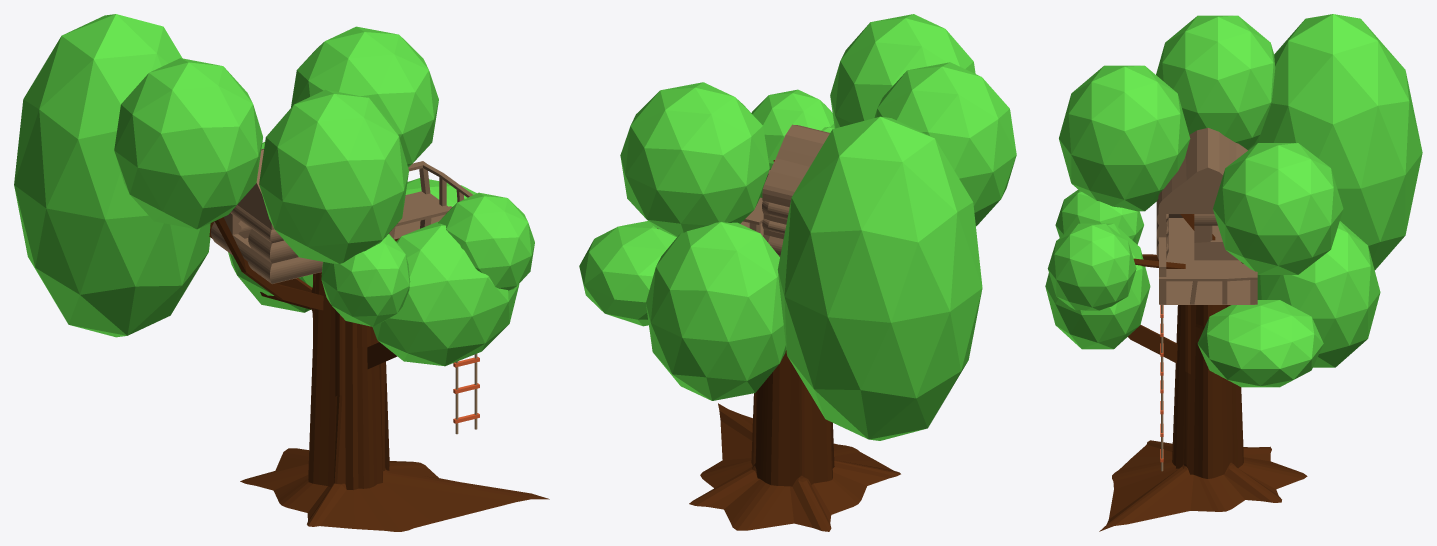
Rendered from Boomhut1.fbx.
3 renders of one model, left to right at view 1: azimuth 30°, elevation 25°; view 2: azimuth 150°, elevation 25°; view 3: azimuth 270°, elevation 25°, orthographic. The views are drawn at different scales.
Parts seen in each view (by area): view 1: Icosphere.008, boom, Icosphere.004, Icosphere.007, Icosphere.001, Icosphere.005, hut, Icosphere.002, Icosphere.003, Icosphere.006, Cylinder, dak (+1 smaller); view 2: Icosphere.008, Icosphere.006, boom, Icosphere.005, Icosphere.007, Icosphere.004, Icosphere, Icosphere.002, dak, hut; view 3: Icosphere.008, boom, Icosphere.004, Icosphere.005, Icosphere.007, Icosphere.006, Icosphere, hut, Icosphere.002, Icosphere.001, dak, Icosphere.003 (+1 smaller).
Boxes of the visible parts, <box> form: Icosphere.008: <box>14,14,210,337</box>; boom: <box>209,217,549,531</box>; Icosphere.004: <box>259,89,408,263</box>; Icosphere.007: <box>114,58,262,229</box>; Icosphere.001: <box>372,221,519,366</box>; Icosphere.005: <box>291,26,438,167</box>; hut: <box>211,161,472,283</box>; Icosphere.002: <box>438,192,534,290</box>; Icosphere.003: <box>321,234,410,326</box>; Icosphere.006: <box>228,142,312,312</box>; Cylinder: <box>453,353,479,434</box>; dak: <box>237,148,273,229</box>; Icosphere.008: <box>777,116,982,440</box>; Icosphere.006: <box>646,222,786,400</box>; boom: <box>689,160,900,531</box>; Icosphere.005: <box>620,82,769,237</box>; Icosphere.007: <box>874,62,1016,226</box>; Icosphere.004: <box>830,14,975,128</box>; Icosphere: <box>579,221,676,326</box>; Icosphere.002: <box>751,89,834,169</box>; dak: <box>762,124,829,207</box>; hut: <box>657,170,789,256</box>; Icosphere.008: <box>1248,14,1422,270</box>; boom: <box>1099,214,1307,531</box>; Icosphere.004: <box>1059,65,1190,211</box>; Icosphere.005: <box>1213,143,1343,274</box>; Icosphere.007: <box>1156,15,1275,149</box>; Icosphere.006: <box>1257,221,1380,367</box>; Icosphere: <box>1197,300,1323,387</box>; hut: <box>1156,199,1257,304</box>; Icosphere.002: <box>1047,223,1136,310</box>; Icosphere.001: <box>1045,223,1150,349</box>; dak: <box>1158,128,1247,213</box>; Icosphere.003: <box>1055,189,1143,244</box>.
Bounding box in the file's own units: 7454 × 7896 × 6812.
